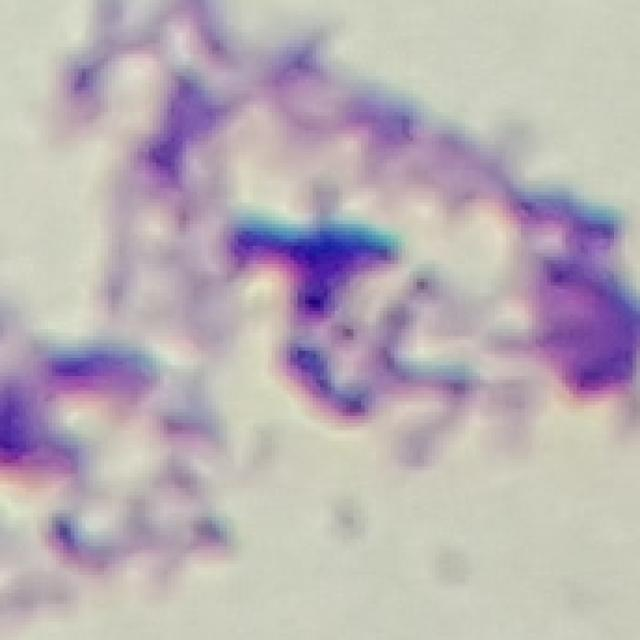non-sperm: (226, 185, 640, 427)
